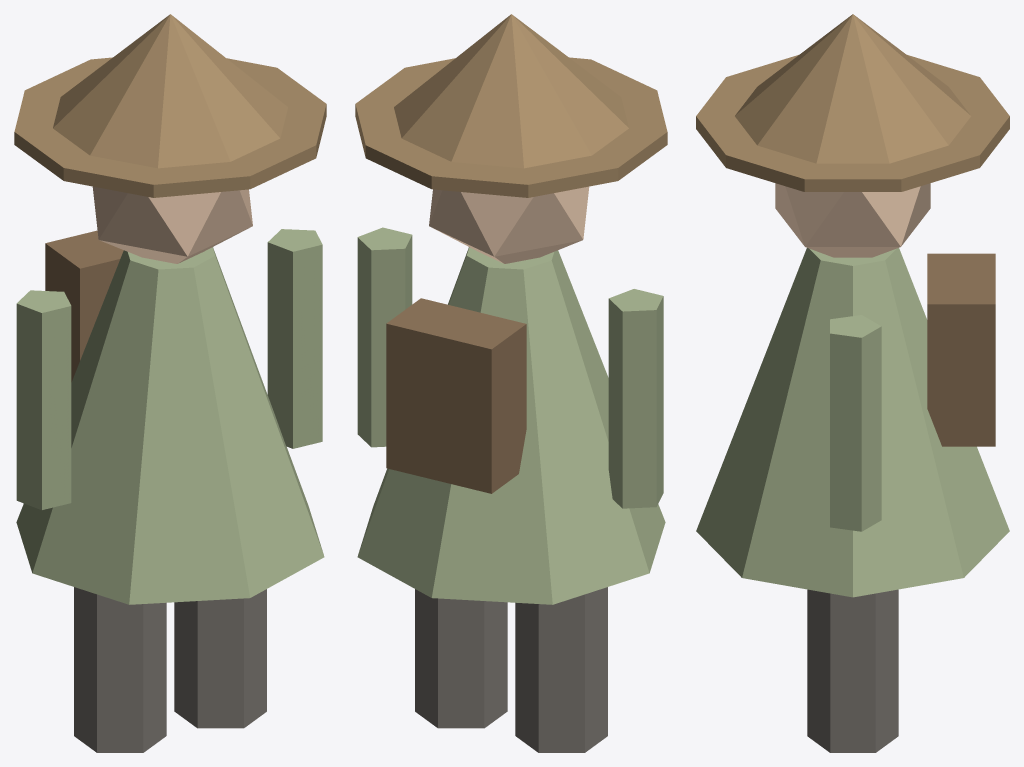
Rendered from explorer.glb.
3 views of the same model, side by side, from view 1: azimuth 30°, elevation 25°; view 2: azimuth 150°, elevation 25°; view 3: azimuth 270°, elevation 25° (orthographic).
Visible parts, largest first — view 1: Torso, HatCrown, HatBrim, Leg_0, Arm_0, Leg_1, Arm_1, Head, Backpack; view 2: Torso, Backpack, HatCrown, HatBrim, Leg_0, Arm_0, Leg_1, Head, Arm_1; view 3: Torso, HatCrown, HatBrim, Leg_1, Backpack, Arm_1, Head.
Part boxes in pixels (x1,y1,x2,y2): Torso: (16,247,324,604); HatCrown: (53,14,287,168); HatBrim: (14,57,326,197); Leg_0: (74,587,166,752); Arm_0: (16,290,71,509); Leg_1: (174,589,266,728); Arm_1: (267,229,322,448); Head: (92,186,252,263); Backpack: (45,230,123,382); Torso: (357,247,665,604); Backpack: (386,298,526,493); HatCrown: (394,14,628,168); HatBrim: (355,57,667,197); Leg_0: (515,587,607,752); Arm_0: (608,289,663,508); Leg_1: (415,589,507,728); Head: (429,186,589,263); Arm_1: (357,227,412,447); Torso: (696,248,1009,597); HatCrown: (735,14,970,163); HatBrim: (696,55,1009,191); Leg_1: (807,589,898,752); Backpack: (927,253,995,446); Arm_1: (830,315,881,531); Head: (775,183,930,257).
Bounding box in the file's own units: 1.19 × 2.7 × 1.1.
